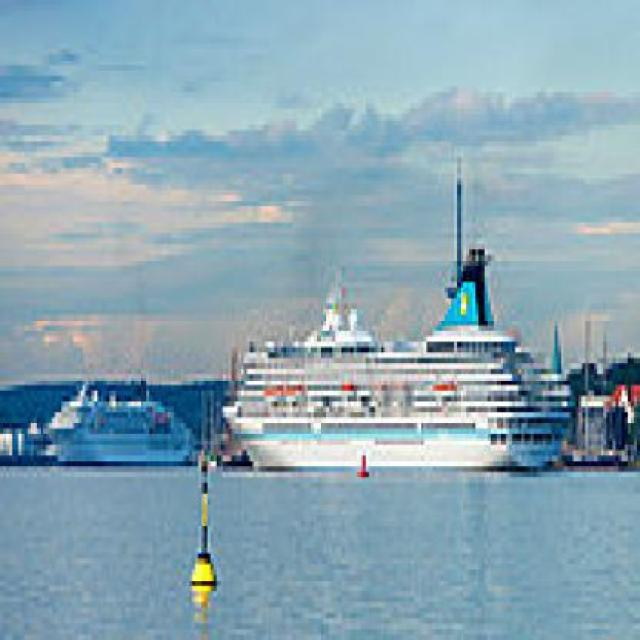cruise: (217, 310, 602, 501)
